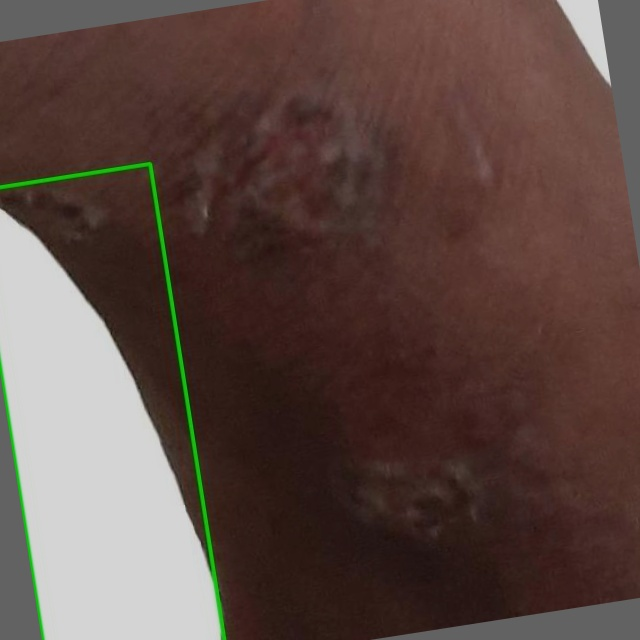Eczema: (0, 163, 224, 639)
